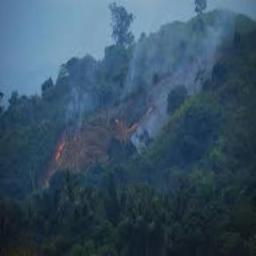Low smoke: (131, 41, 202, 89), (66, 71, 99, 133), (205, 22, 227, 79)
Small fire: (54, 127, 70, 176)
